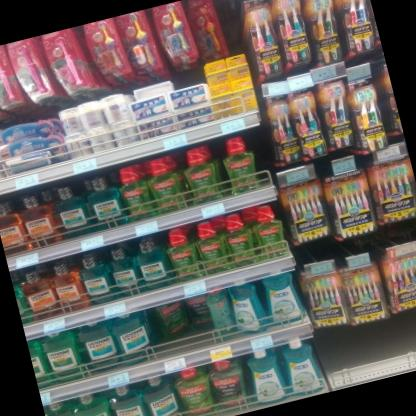empty_space: (318, 324, 366, 391), (354, 315, 402, 382), (163, 326, 217, 354), (395, 308, 416, 366)
